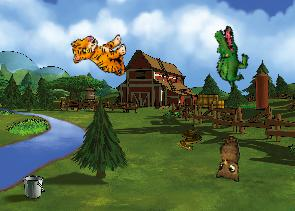crocodile: (198, 23, 260, 92)
owl: (208, 134, 244, 185)
tiger: (70, 29, 130, 82)
